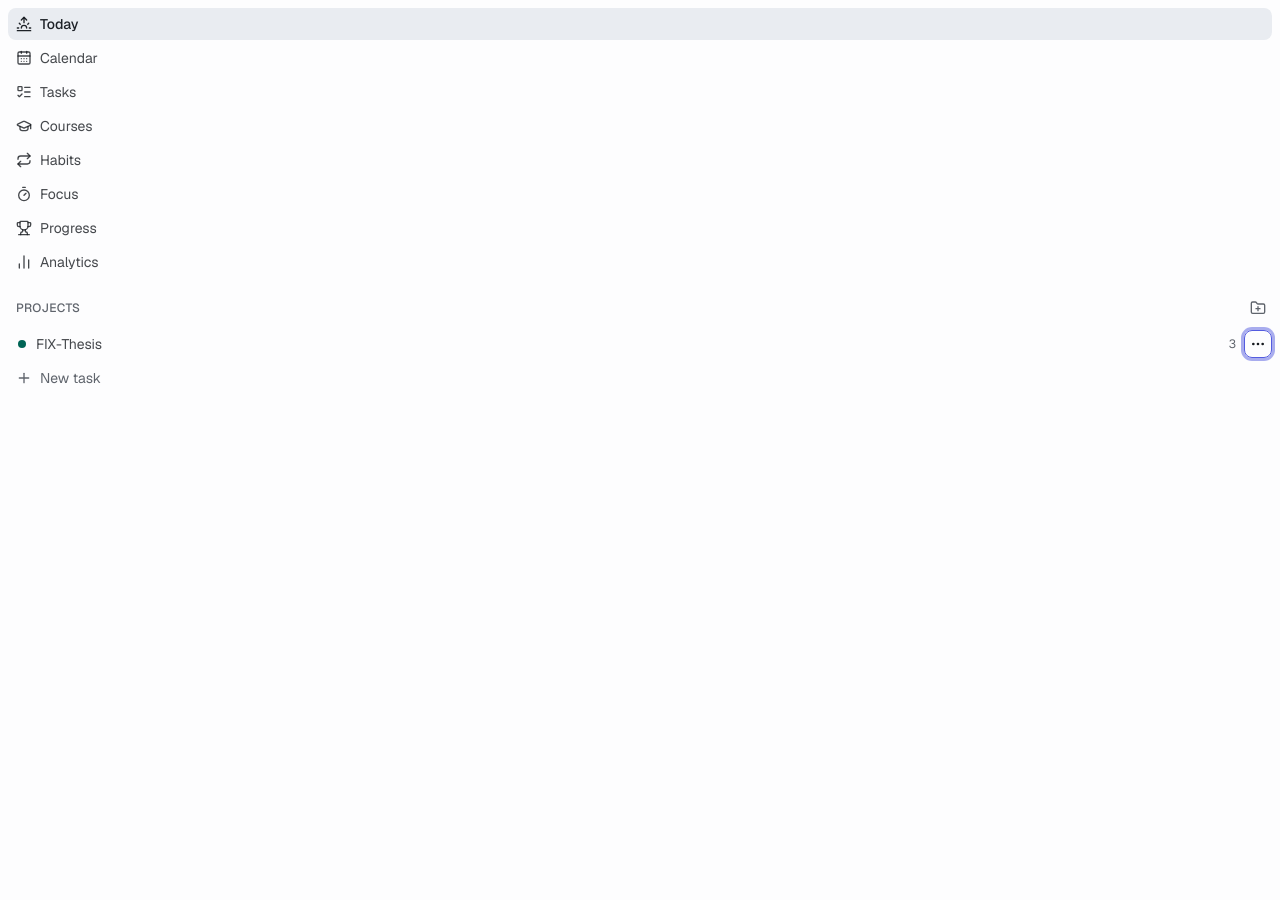
it: a project's menu › renames through the same dialog, seeded with the project
The width and height of the screenshot is (1280, 900).
Press Enter in the button named "Options for FIX-Thesis", box [1244,330,1272,358]
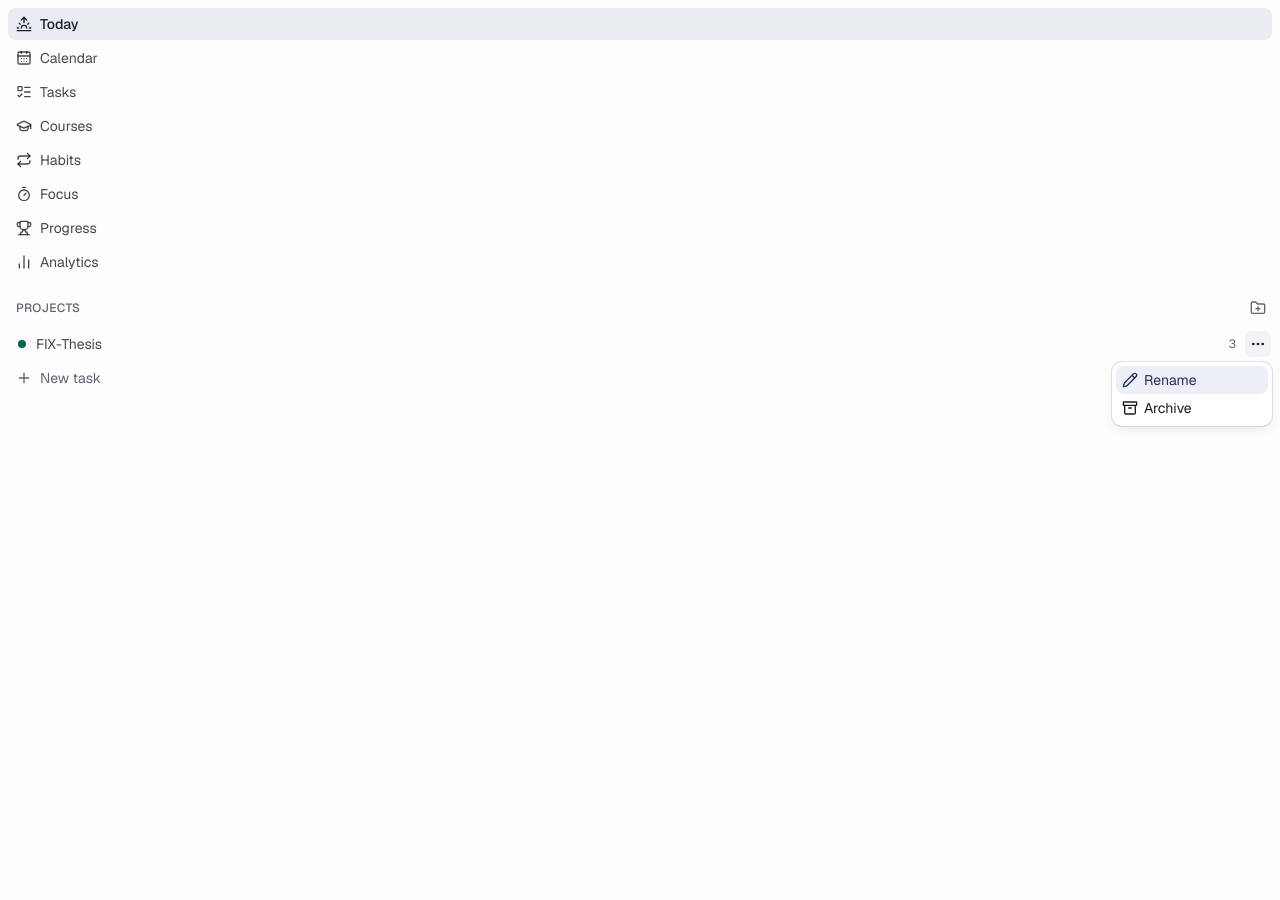
Click the menu item "Rename" at x=1192, y=380, box [1116,366,1268,394]
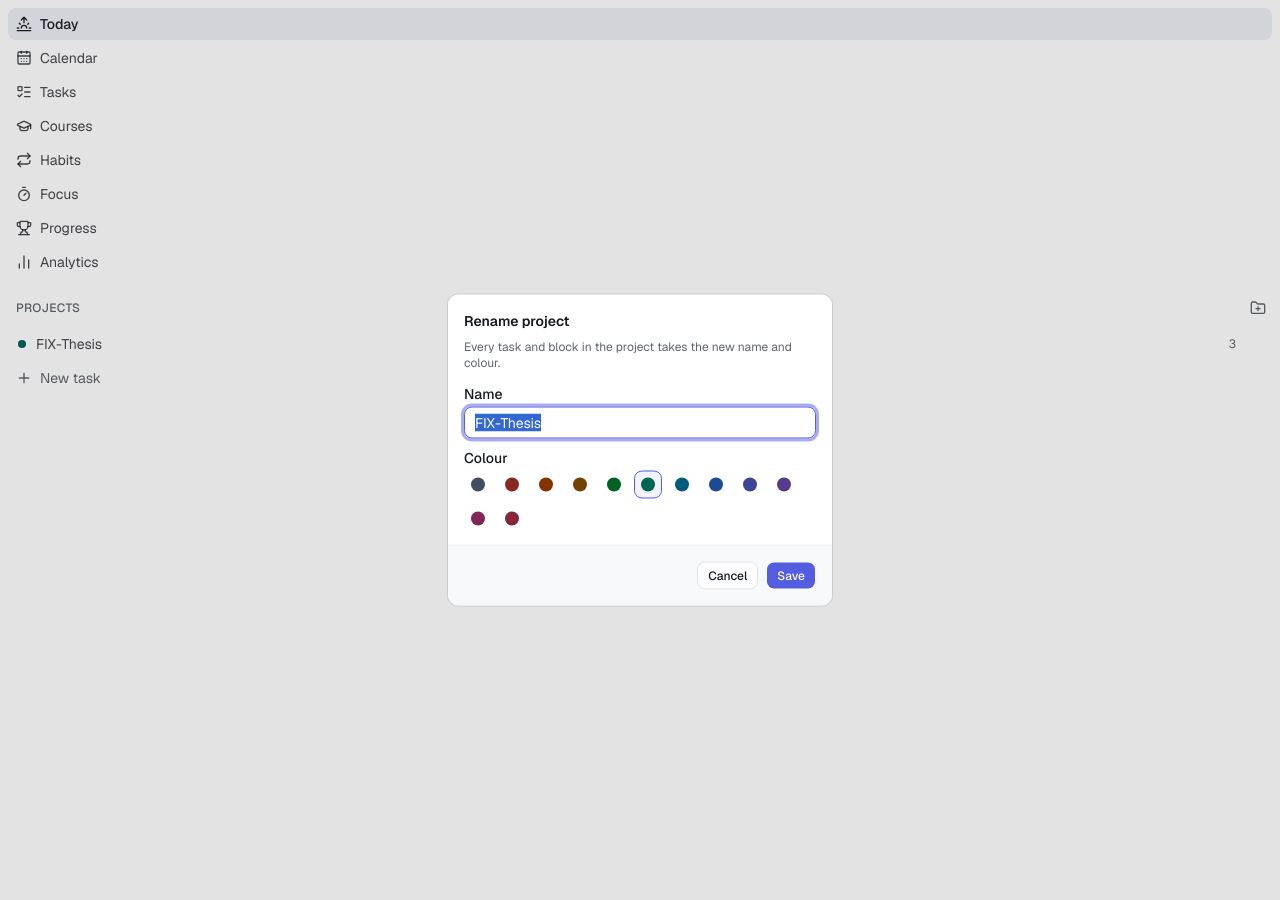
Expected: the field labelled "Name" holds "FIX-Thesis"
Replace the text in the field labelled "Name" with "FIX-Dissertation" at x=640, y=422, box [464,406,816,438]
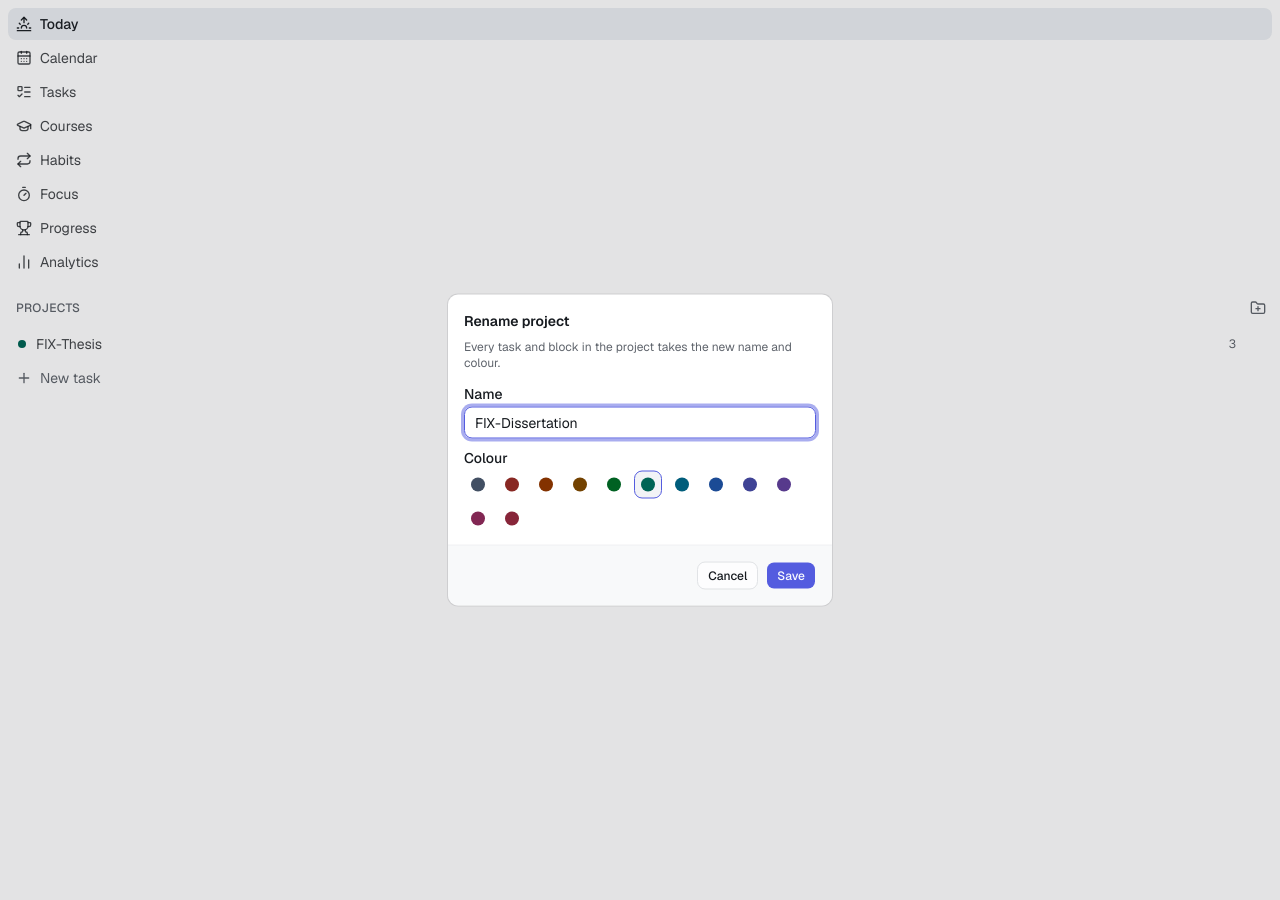
Submit the form, box [464,386,816,590]
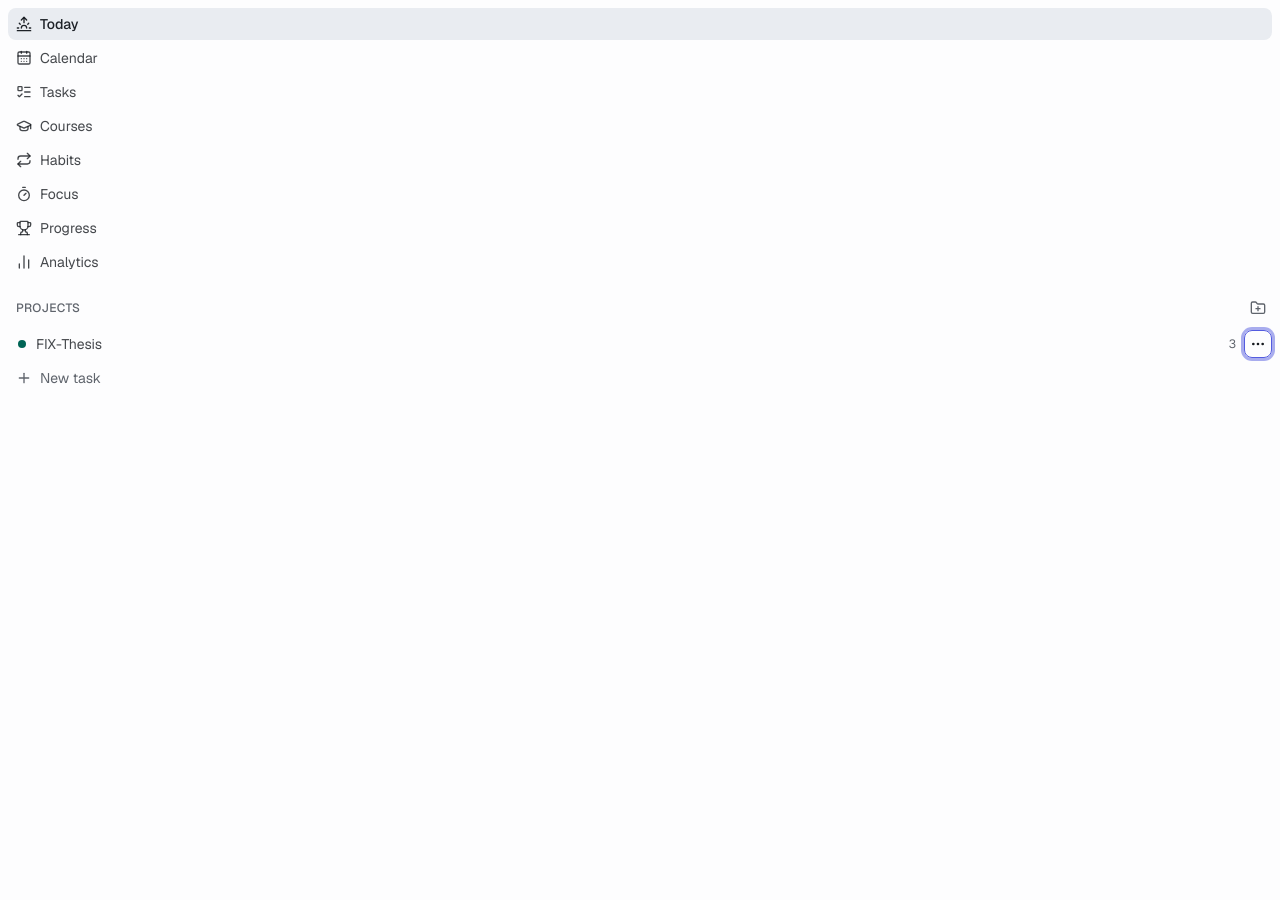
Expected: the dialog is gone
